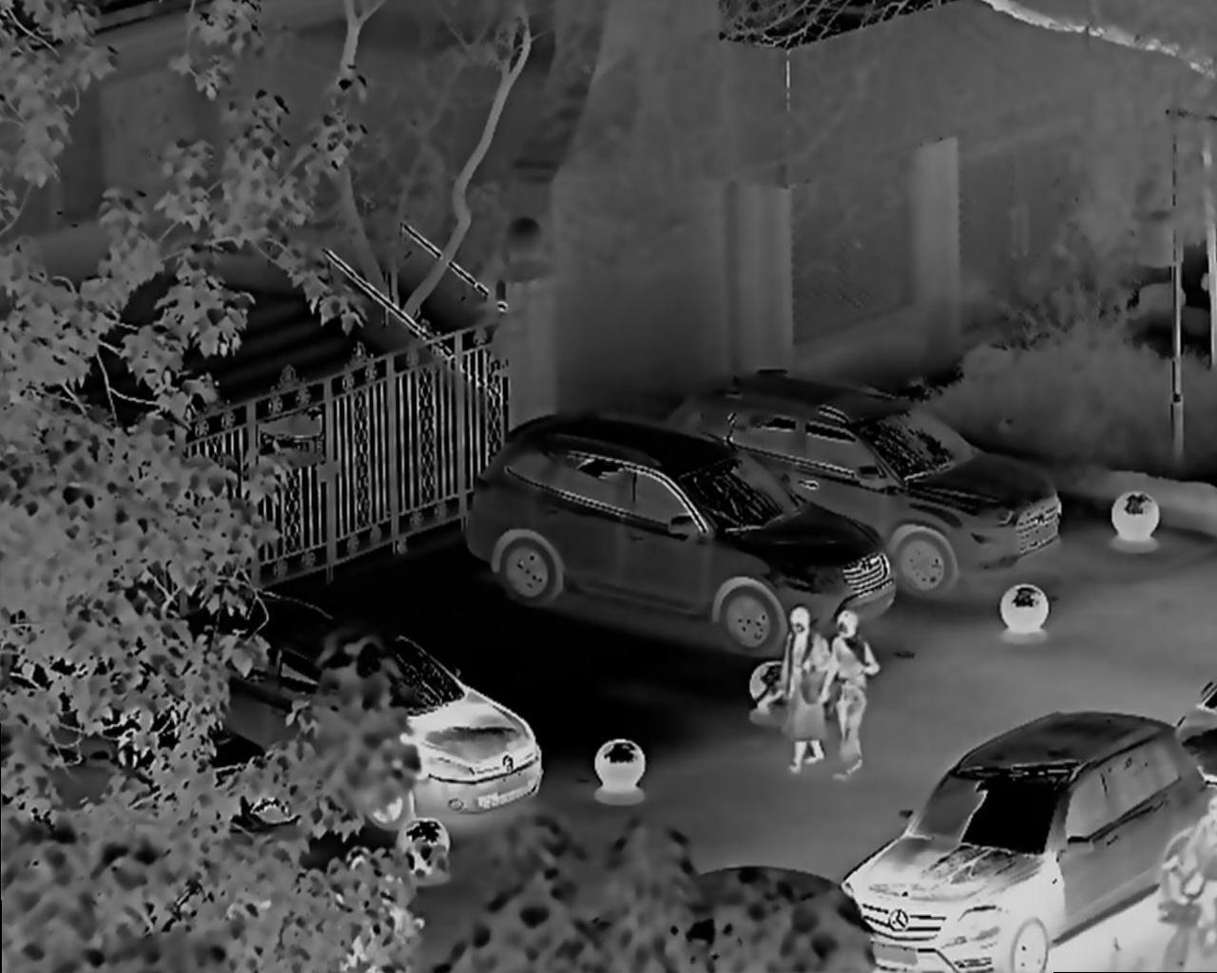person: (831, 599, 883, 781), (776, 606, 829, 766)
